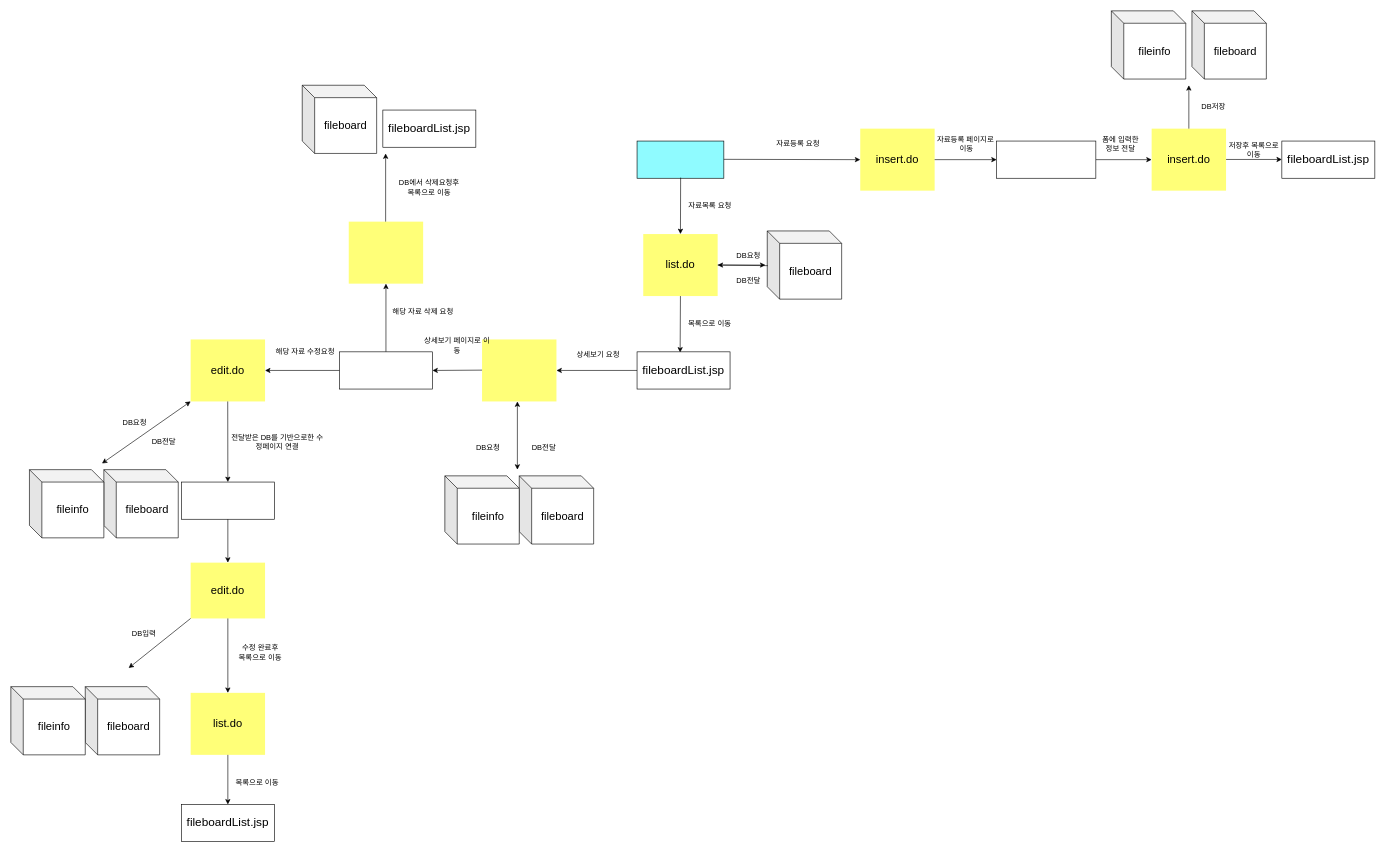
Some shapes in this 1386 by 853 pixel diagram are drawn without their labels. The shapes that lost their labels are listed below. From the top down, each one's box as (x1, y1, x2, y2) in pixels, then its label:
(636, 140, 724, 178): Fileboard Controller.java
(996, 140, 1096, 178): fileboardInsert.jsp
(348, 221, 423, 283): delete.do
(339, 351, 432, 389): fileboardDetail .jsp
(482, 339, 556, 401): detail.do
(181, 481, 274, 519): fileboardEdit .jsp
